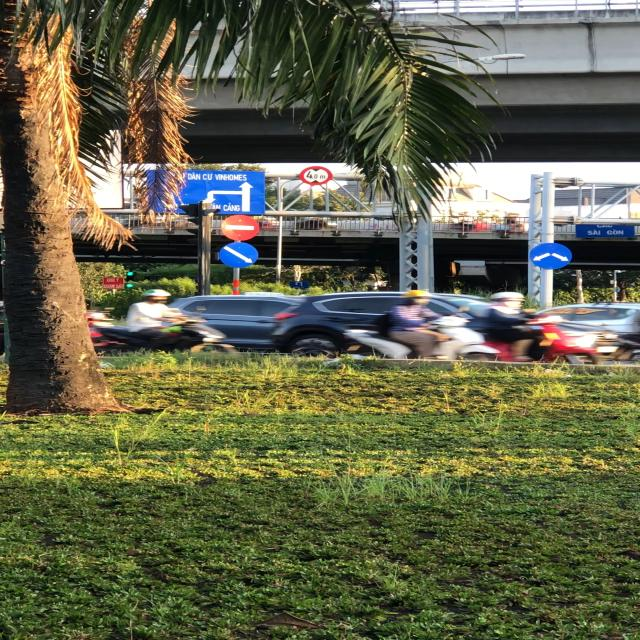Bien bao cam di nguoc chieu: (217, 212, 262, 242)
Bien bao han che chieu cao: (297, 165, 334, 186)
Bien bao huong phai di vong chuong ngai vat: (217, 240, 265, 271), (527, 241, 573, 271)
